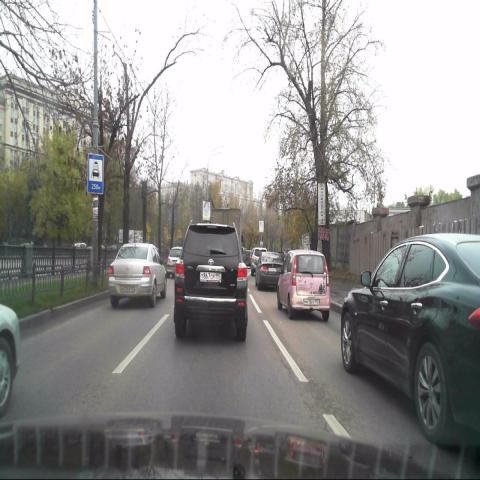7_5: (87, 153, 103, 195)
